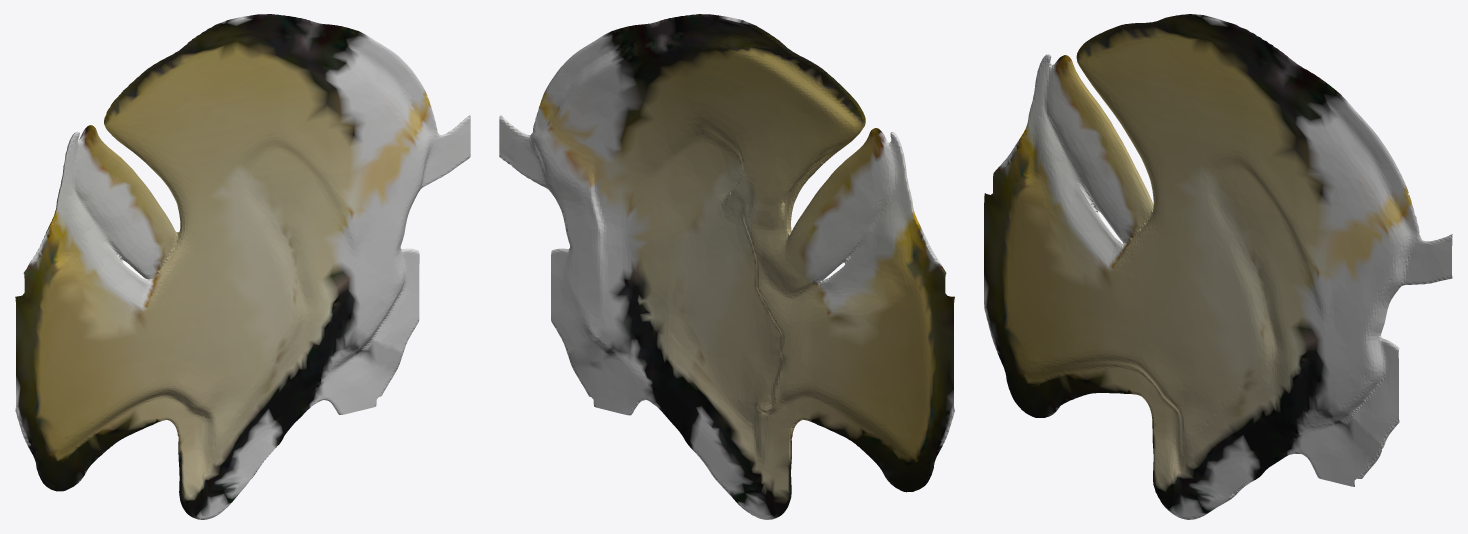
File: b_hornhelmet.glb
3 views of the same model, side by side, from view 1: azimuth 30°, elevation 25°; view 2: azimuth 150°, elevation 25°; view 3: azimuth 330°, elevation 25° (orthographic). The views are drawn at different scales.
Parts seen in each view (by area): view 1: geometry_0; view 2: geometry_0; view 3: geometry_0.
Part boxes in pixels (x1=…): geometry_0: x1=15, y1=14, x2=470, y2=519; geometry_0: x1=499, y1=14, x2=954, y2=519; geometry_0: x1=984, y1=14, x2=1452, y2=519.
Bounding box in the file's own units: 0.4813 × 0.5 × 0.021.
